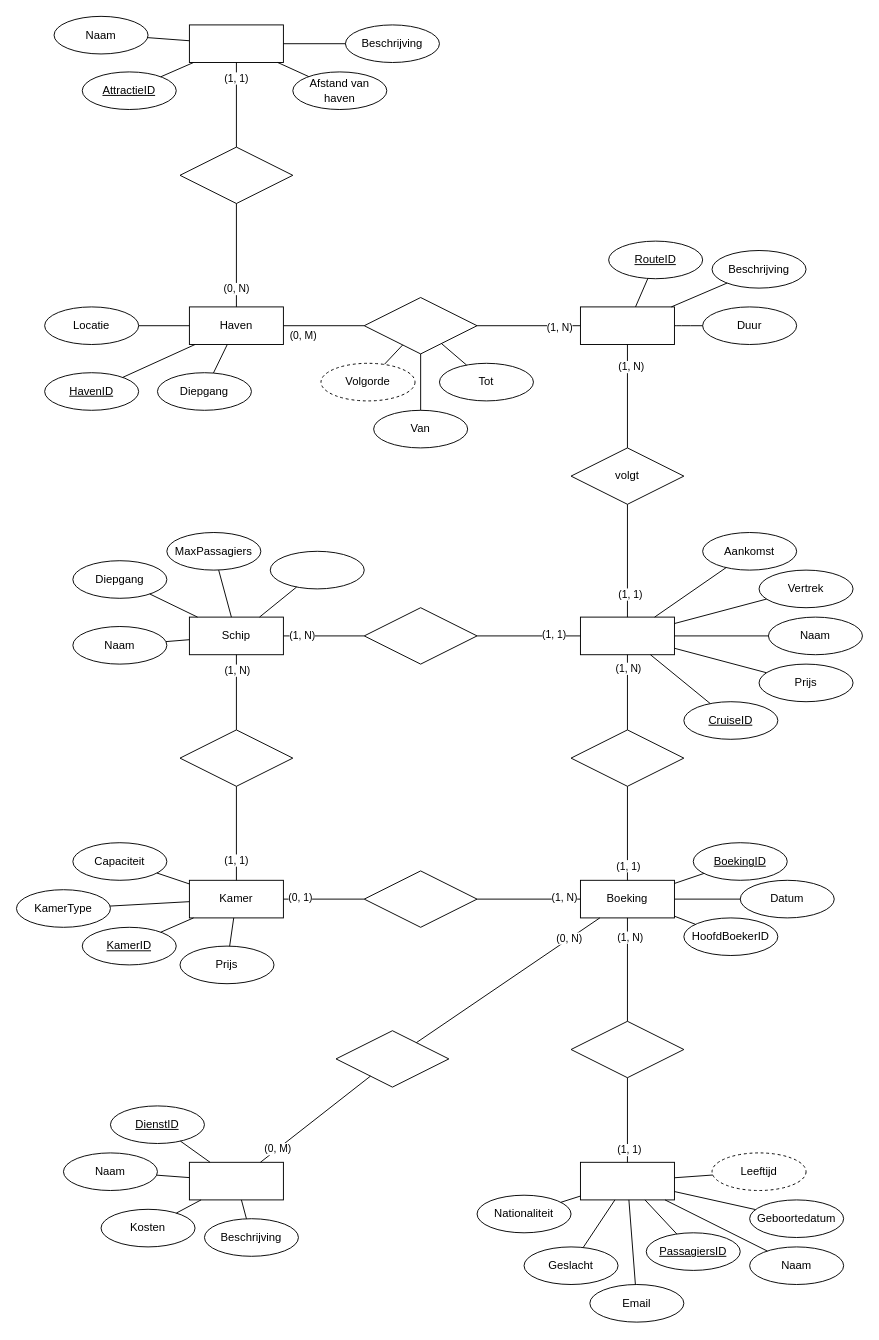
The diagram is 879 pixels wide and 1340 high, and some of its shapes have lost their labels. Each missing label, with the centre of its shape:
attractie: (x=235, y=43)
Behoort tot: (x=236, y=757)
Cruise: (x=627, y=635)
ExtraDienst: (x=235, y=1180)
IMO-Nummer: (x=316, y=569)
is deel van: (x=392, y=1058)
is van: (x=627, y=757)
ligt bij: (x=236, y=175)
maakt: (x=420, y=635)
maakt deel uit van: (x=627, y=1049)
meert aan: (x=420, y=325)
Omvat: (x=420, y=898)
Passagier: (x=627, y=1180)
Vaarroute: (x=627, y=325)
